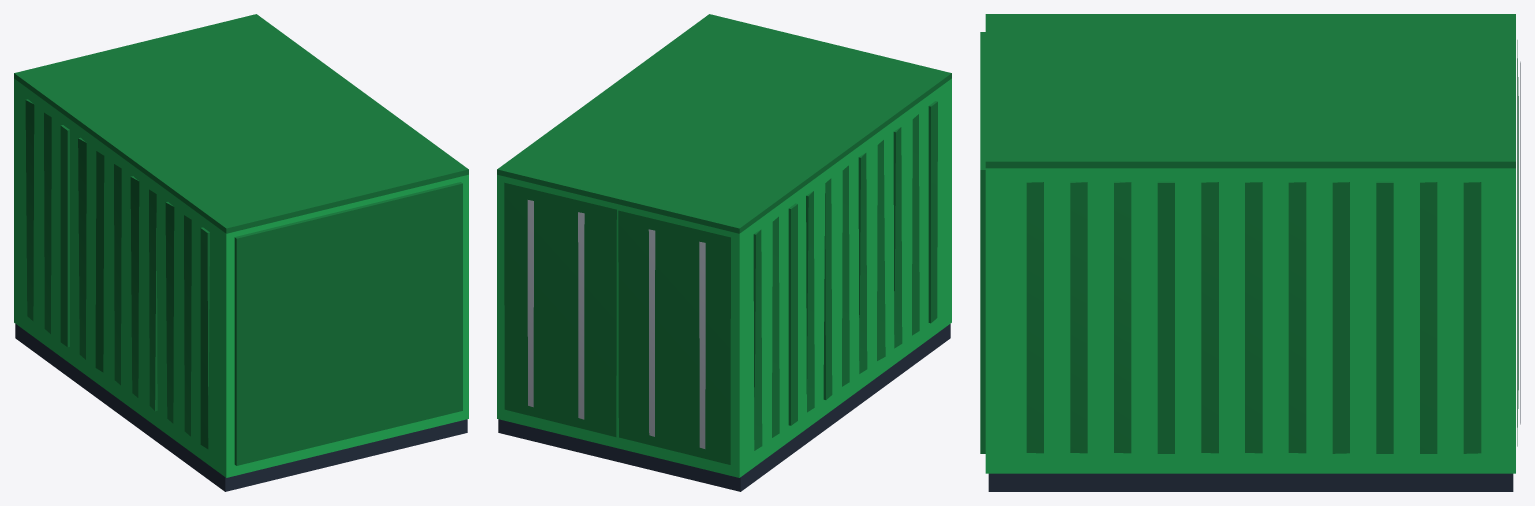
Rendered from container_12ft.glb.
The picture shows the model from 3 angles, left to right: view 1: azimuth 30°, elevation 25°; view 2: azimuth 150°, elevation 25°; view 3: azimuth 270°, elevation 25°; orthographic projection. The views are drawn at different scales.
Visible parts, largest first — view 1: container_12ft; view 2: container_12ft; view 3: container_12ft.
Boxes of the visible parts, x1,y1,x2,y2 form: container_12ft: [14, 14, 468, 491]; container_12ft: [497, 14, 951, 491]; container_12ft: [980, 14, 1520, 491].
Bounding box in the file's own units: 2.45 × 2.5 × 3.71.
1 material, 1 textured.
